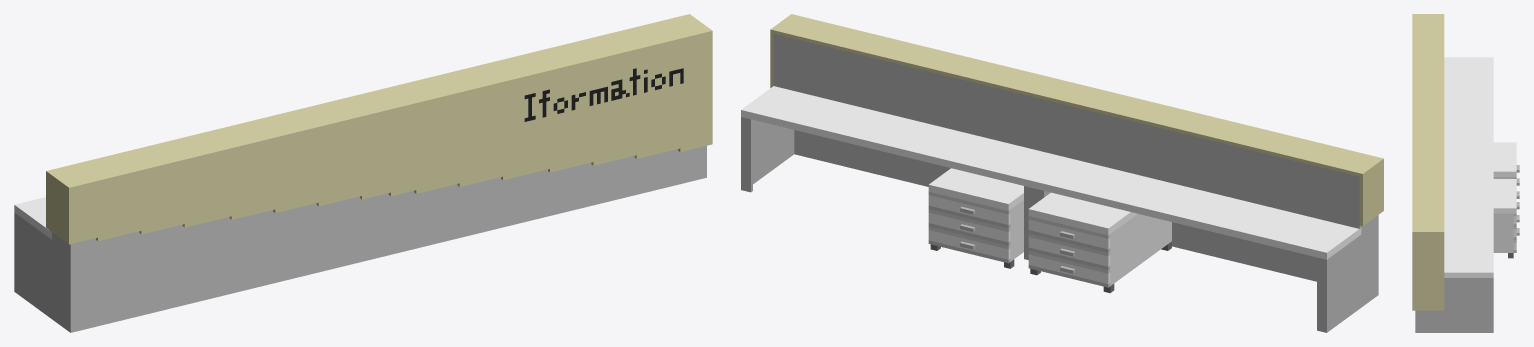
File: Desk6-2.fbx
3 renders of one model, left to right at view 1: azimuth 30°, elevation 25°; view 2: azimuth 150°, elevation 25°; view 3: azimuth 270°, elevation 25°, orthographic. The views are drawn at different scales.
Visible parts, largest first — view 1: Desk6-2.001, Desk6-2; view 2: Desk6-2.001, Desk6-2; view 3: Desk6-2, Desk6-2.001.
Boxes of the visible parts, bbox=[...] form: Desk6-2.001: bbox=[14, 92, 390, 332]; Desk6-2: bbox=[368, 14, 712, 255]; Desk6-2.001: bbox=[1028, 86, 1383, 332]; Desk6-2: bbox=[741, 14, 1087, 268]; Desk6-2: bbox=[1412, 123, 1519, 332]; Desk6-2.001: bbox=[1412, 14, 1519, 198].
Bounding box in the file's own units: 17.8 × 3.9 × 3.7.
